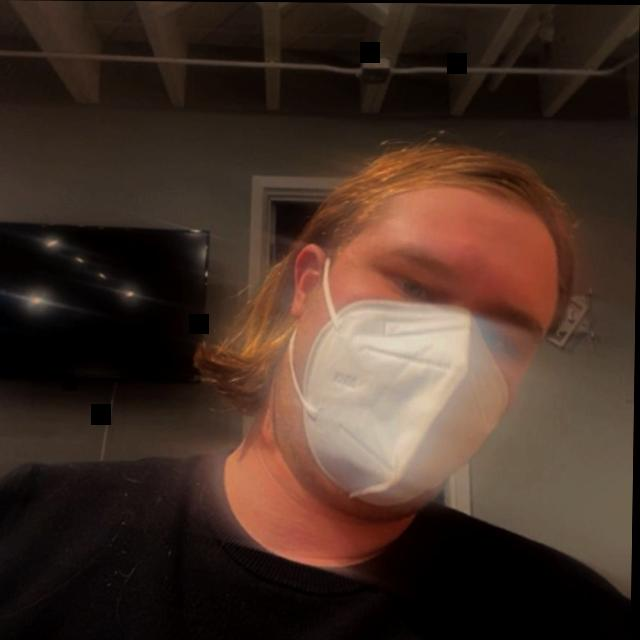Mask: (177, 112, 588, 576)
